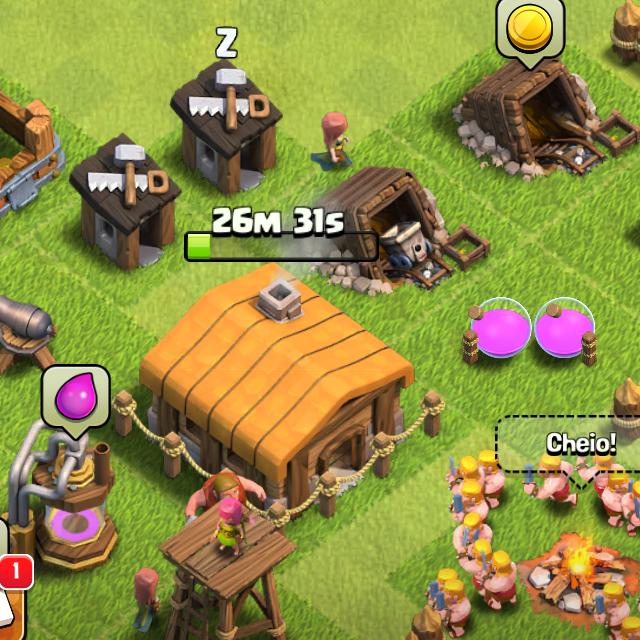Elixir: (40, 364, 111, 434)
coin: (497, 0, 567, 68)
